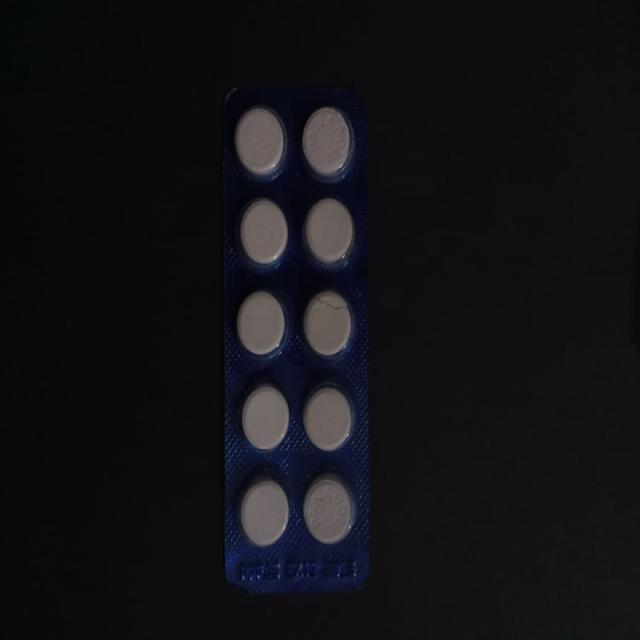defect: (301, 290, 356, 358)
